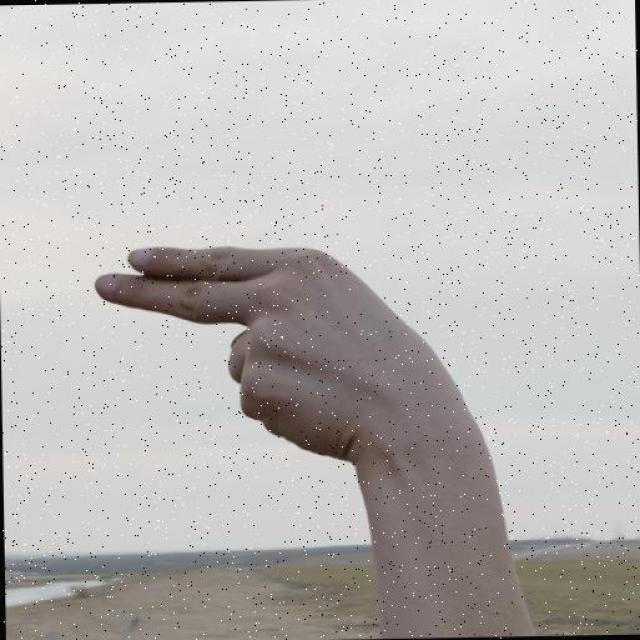H: (79, 225, 481, 456)
